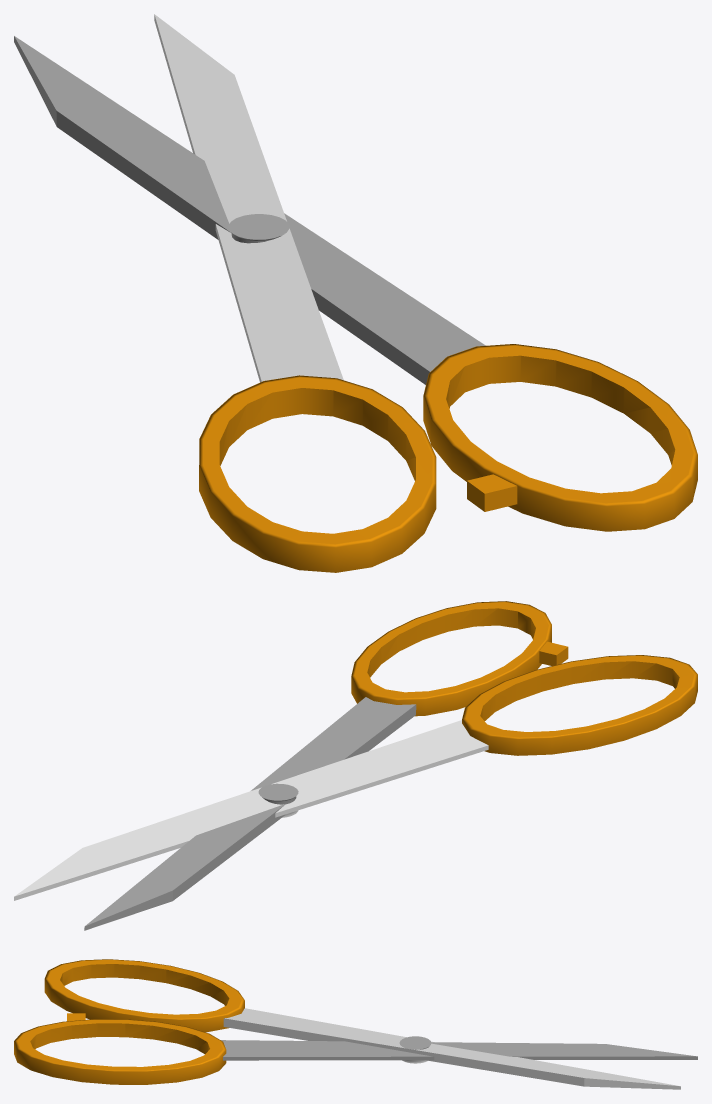
Rendered from scissors.fbx.
3 renders of one model, top to bottom at view 1: azimuth 30°, elevation 25°; view 2: azimuth 150°, elevation 25°; view 3: azimuth 270°, elevation 25°, orthographic. The views are drawn at different scales.
Parts seen in each view (by area): view 1: polySurface1, polySurface4, polySurface2, polySurface3, pCube3, pCylinder6; view 2: polySurface4, polySurface3, polySurface1, polySurface2, pCylinder6, pCube3; view 3: polySurface2, polySurface4, polySurface3, polySurface1, pCylinder6.
Boxes of the visible parts, box(x1,y1,x2,y2) form: polySurface1: box(14, 36, 485, 384); polySurface4: box(154, 14, 343, 382); polySurface2: box(423, 344, 697, 531); polySurface3: box(199, 375, 436, 572); pCube3: box(467, 474, 517, 511); pCylinder6: box(228, 214, 289, 243); polySurface4: box(14, 720, 488, 900); polySurface3: box(462, 655, 697, 755); polySurface1: box(84, 697, 416, 930); polySurface2: box(351, 601, 551, 716); pCylinder6: box(258, 783, 298, 817); pCube3: box(539, 641, 568, 665); polySurface2: box(14, 1019, 226, 1084); polySurface4: box(223, 1008, 680, 1089); polySurface3: box(44, 959, 244, 1032); polySurface1: box(221, 1040, 697, 1060); pCylinder6: box(399, 1036, 431, 1063).
Size of the model in its own units: 9.1 by 0.6163 by 21.98.
